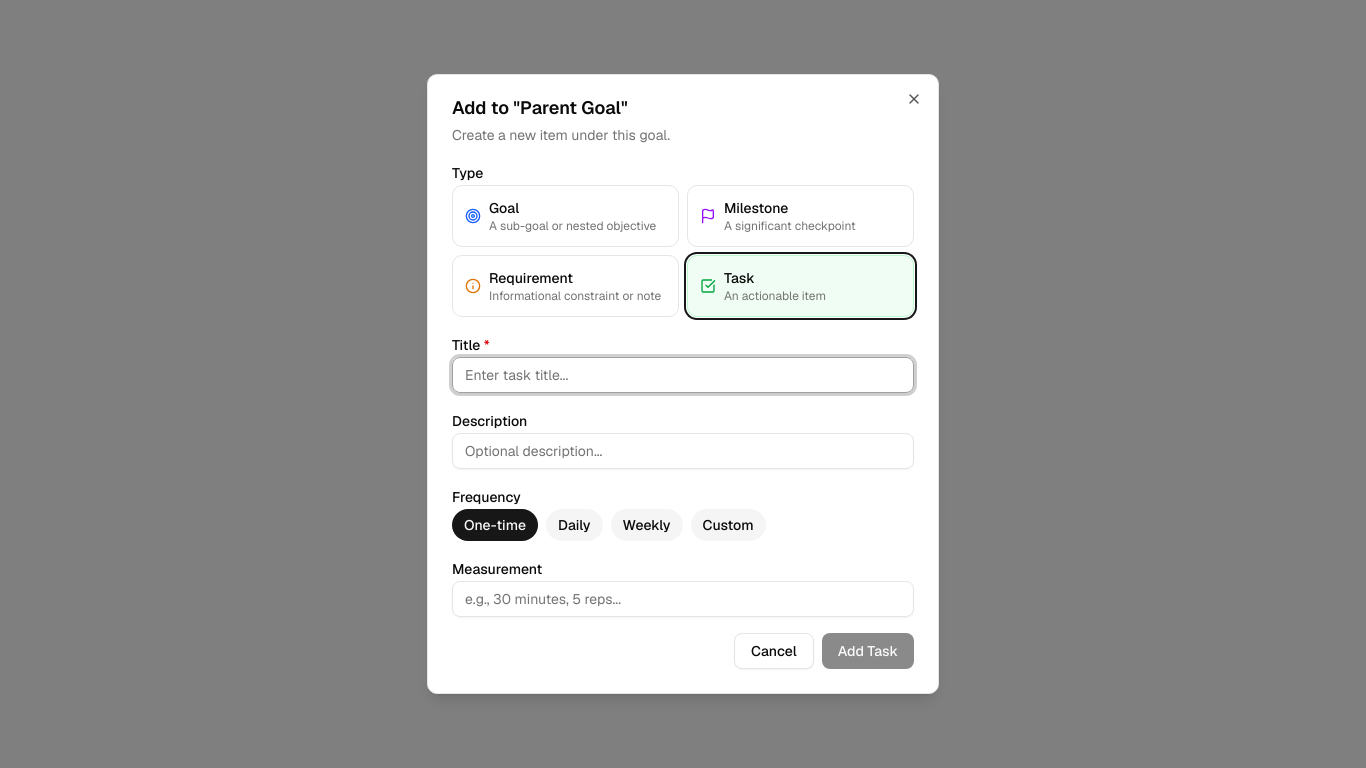
Test: AddChildDialog › form submission › shows error message on submission failure
The image size is (1366, 768).
Type "My Task" into the field with test id "title-input" at (683, 375), box x1=452 y1=357 x2=914 y2=393
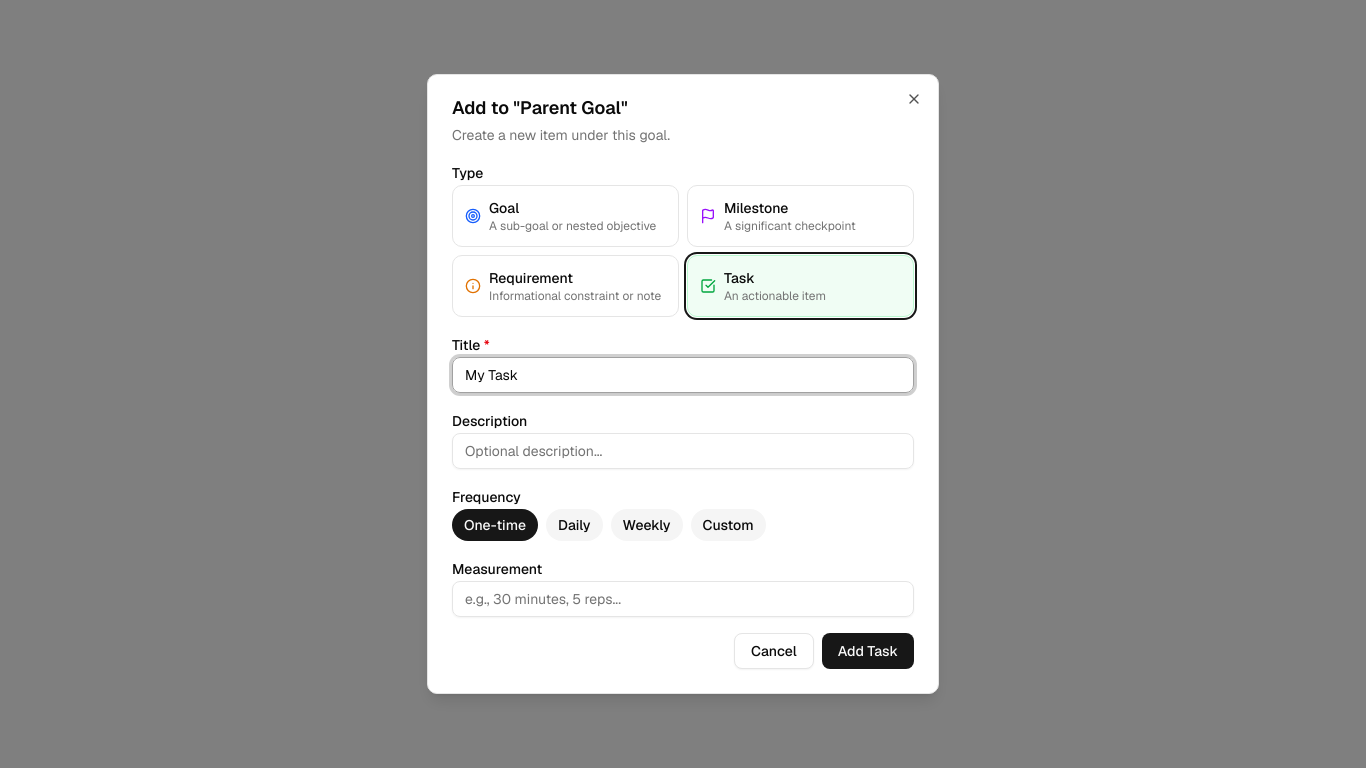
Click the button with test id "submit-button" at (868, 651), box x1=822 y1=633 x2=914 y2=669
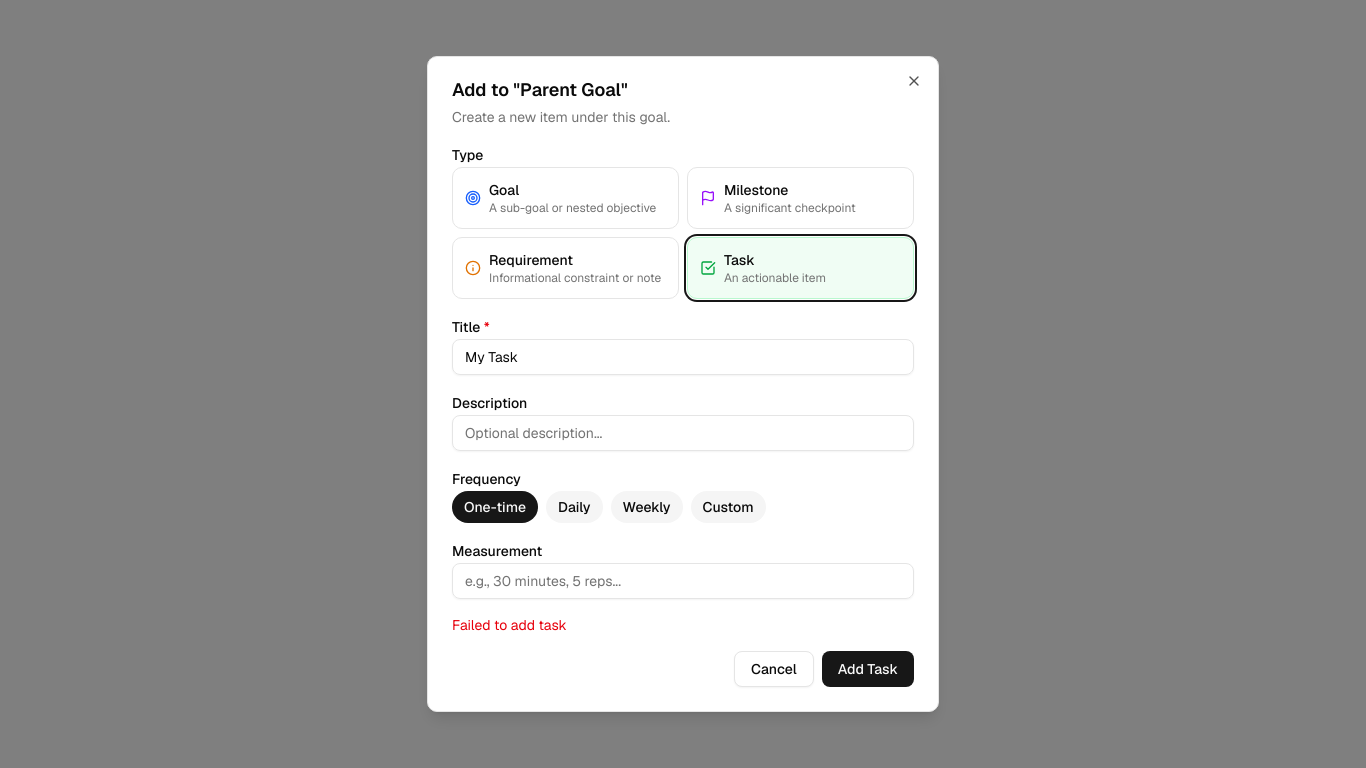
expect the message with test id "add-child-error" reads "Failed to add task": met, box x1=452 y1=616 x2=567 y2=634
